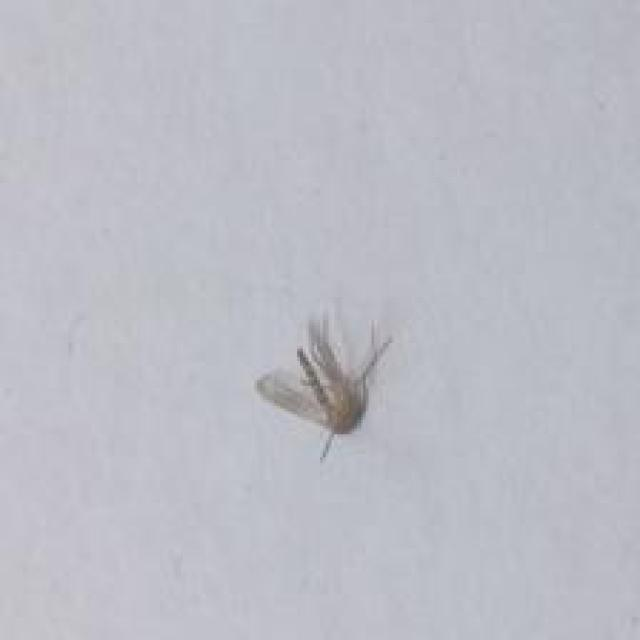Culex: (255, 310, 394, 461)
